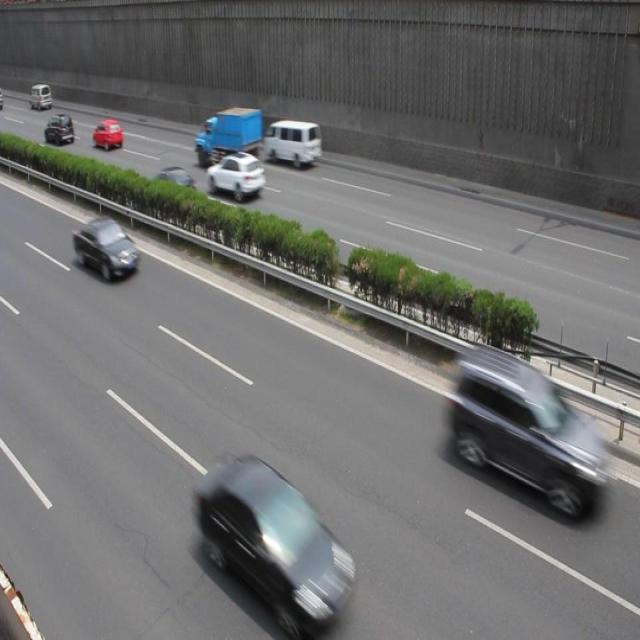bus: (194, 105, 262, 168)
car: (196, 454, 360, 608), (448, 345, 587, 511), (72, 214, 140, 284), (207, 152, 265, 200), (149, 163, 199, 210), (43, 112, 75, 145), (92, 120, 123, 148)
truck: (265, 120, 324, 166)
